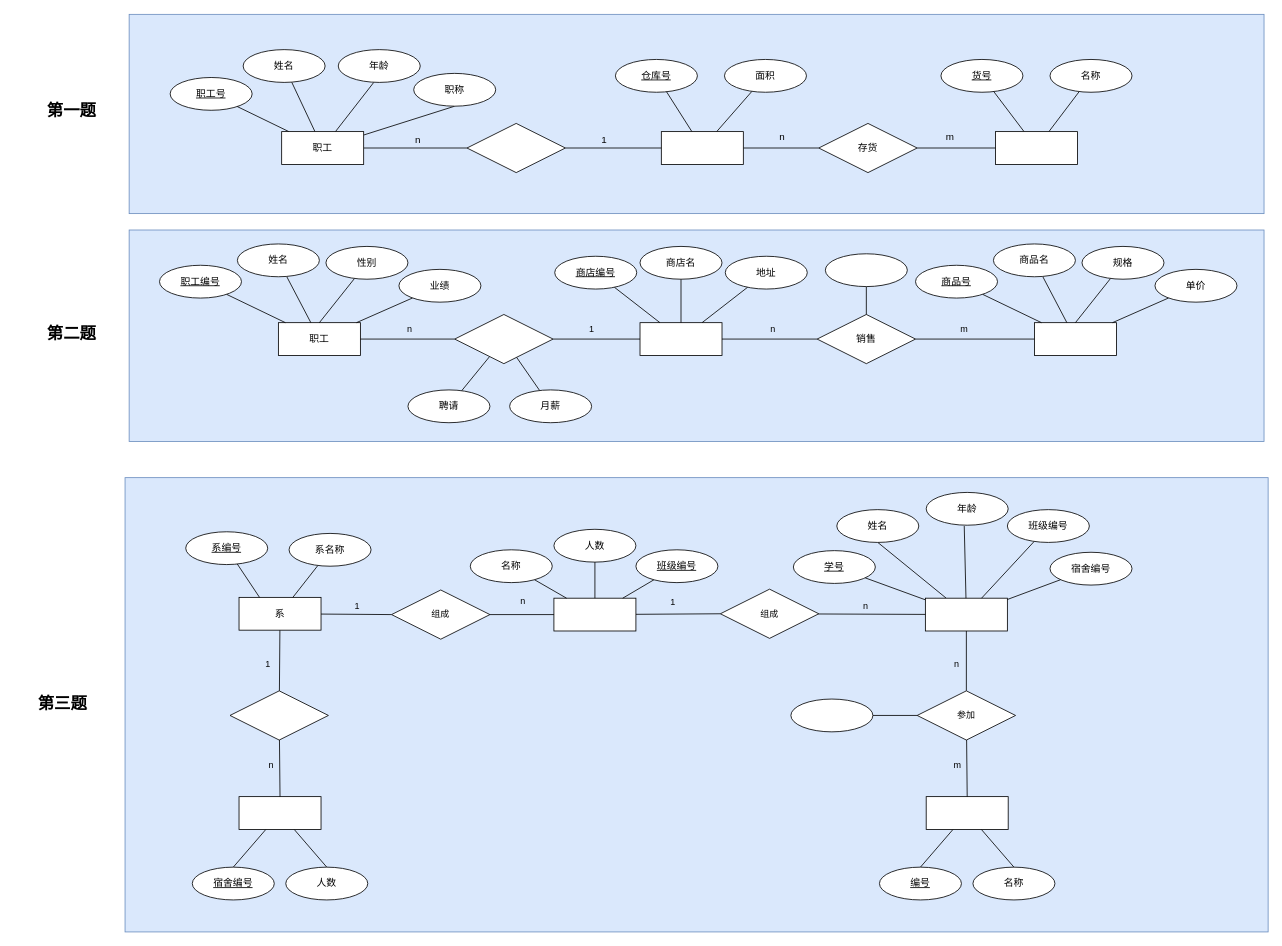
Image size: 1282x946. Some labels were removed from this diagram. Each missing label, with the centre of its shape:
仓库: the point at 702,147
住宿: the point at 278,715
入会年份: the point at 831,715
商品: the point at 1075,338
商店: the point at 680,338
学会: the point at 966,812
学生: the point at 966,614
宿舍: the point at 279,812
工作: the point at 515,148
月销售量: the point at 866,270
班级: the point at 594,614
聘用: the point at 503,339
货物: the point at 1036,147
